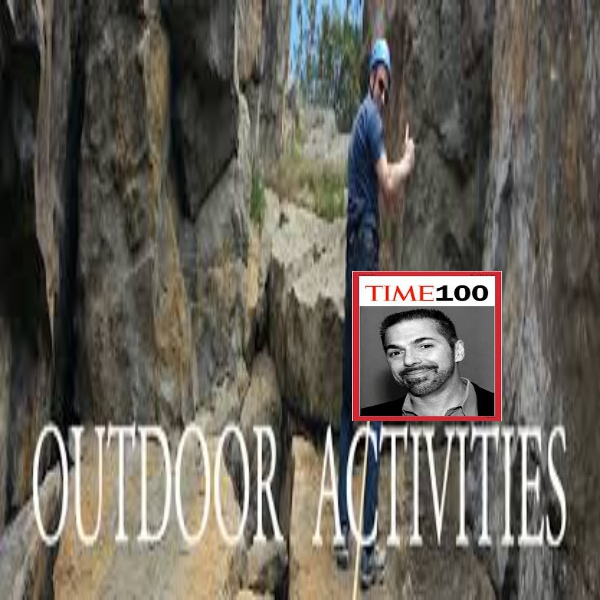time_cover: (348, 264, 500, 427)
